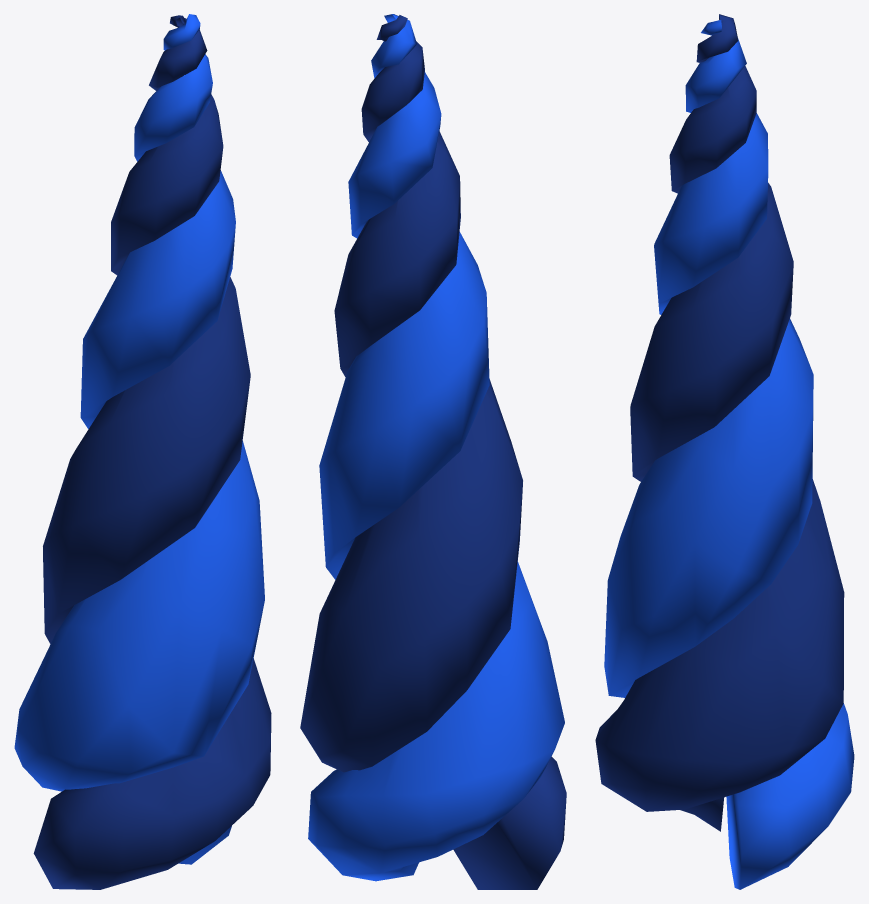
File: Ingredient_unicorn_horn_1.fbx
The picture shows the model from 3 angles, left to right: view 1: azimuth 30°, elevation 25°; view 2: azimuth 150°, elevation 25°; view 3: azimuth 270°, elevation 25°; orthographic projection.
Parts seen in each view (by area): view 1: Jar_UnicornHorn.002; view 2: Jar_UnicornHorn.002; view 3: Jar_UnicornHorn.002.
Part boxes in pixels (box(x1,y1,x2,y2)): Jar_UnicornHorn.002: box(14, 14, 271, 889); Jar_UnicornHorn.002: box(300, 14, 566, 889); Jar_UnicornHorn.002: box(595, 14, 854, 889).
Size of the model in its own units: 11.32 by 40.04 by 10.88.
